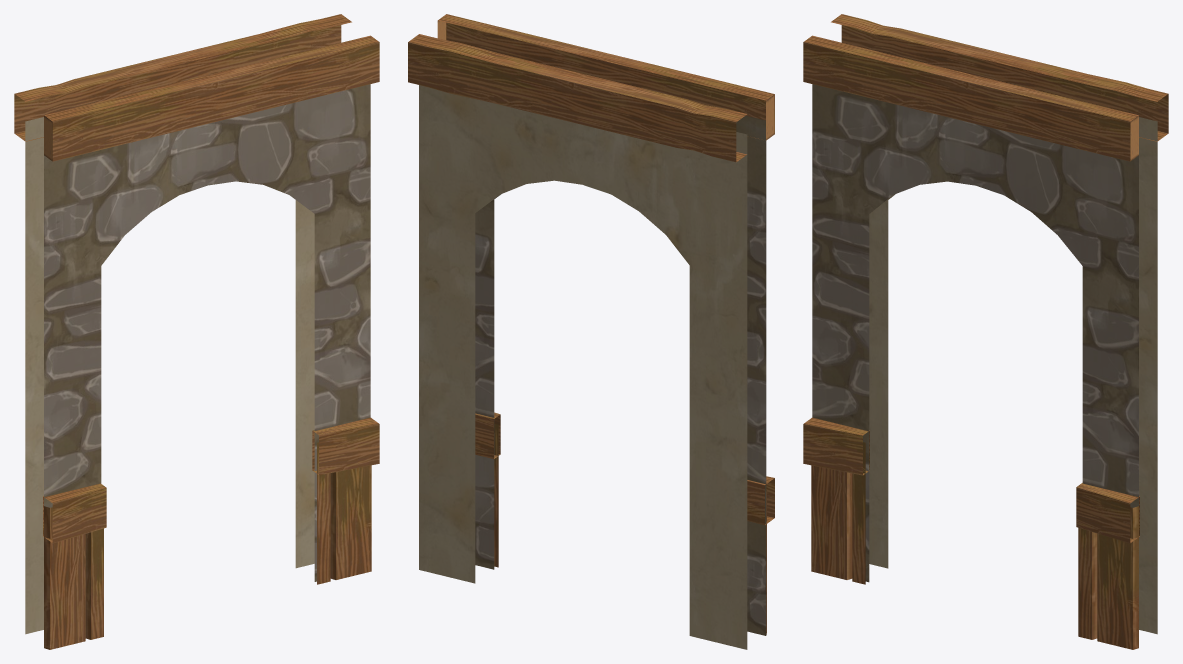
Rendered from Wall_WoodBrick_Door_Round.gltf.
The picture shows the model from 3 angles, left to right: view 1: azimuth 30°, elevation 25°; view 2: azimuth 150°, elevation 25°; view 3: azimuth 330°, elevation 25°; orthographic projection.
Parts seen in each view (by area): view 1: Wall_WoodBrick_Door_Round; view 2: Wall_WoodBrick_Door_Round; view 3: Wall_WoodBrick_Door_Round.
Part boxes in pixels (<box>): Wall_WoodBrick_Door_Round: <box>14,14,379,649</box>; Wall_WoodBrick_Door_Round: <box>408,14,774,649</box>; Wall_WoodBrick_Door_Round: <box>803,14,1168,649</box>.
Bounding box in the file's own units: 2 × 3.12 × 0.4065.
4 materials, 4 textured.
